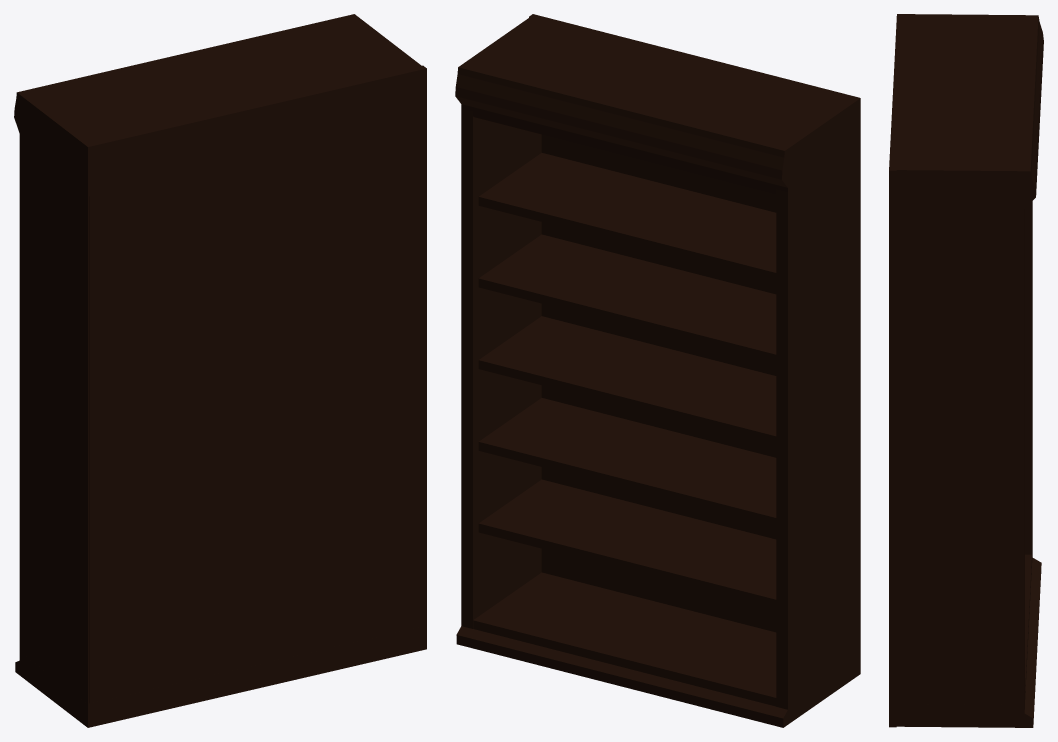
The picture shows the model from 3 angles, left to right: view 1: azimuth 30°, elevation 25°; view 2: azimuth 150°, elevation 25°; view 3: azimuth 270°, elevation 25°; orthographic projection. The views are drawn at different scales.
Visible parts, largest first — view 1: back, cap, wall, base; view 2: wall, cap, base, wall.001, back, shelf, shelf.003, shelf.001, shelf.004, shelf.002; view 3: wall.001, cap, base, back, wall.
Boxes of the visible parts, left/top/right/bottom form: back: left=89, top=65, right=426, bottom=703; cap: left=14, top=14, right=425, bottom=196; wall: left=19, top=140, right=88, bottom=703; base: left=15, top=626, right=425, bottom=727; wall: left=776, top=147, right=860, bottom=709; cap: left=455, top=14, right=860, bottom=197; base: left=456, top=572, right=860, bottom=727; wall.001: left=461, top=109, right=541, bottom=628; back: left=529, top=14, right=776, bottom=632; shelf: left=478, top=479, right=776, bottom=608; shelf.003: left=478, top=234, right=776, bottom=363; shelf.001: left=478, top=398, right=776, bottom=526; shelf.004: left=478, top=153, right=776, bottom=281; shelf.002: left=478, top=316, right=776, bottom=444; wall.001: left=896, top=210, right=1024, bottom=712; cap: left=889, top=14, right=1043, bottom=218; base: left=896, top=554, right=1041, bottom=727; back: left=889, top=170, right=896, bottom=727; wall: left=1025, top=201, right=1032, bottom=562.
Bounding box in the file's own units: 1.09 × 1.8 × 0.4542.
